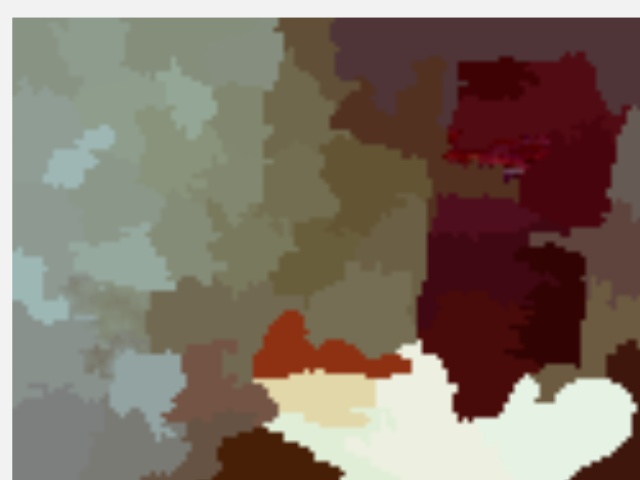three: (542, 436, 601, 469)
